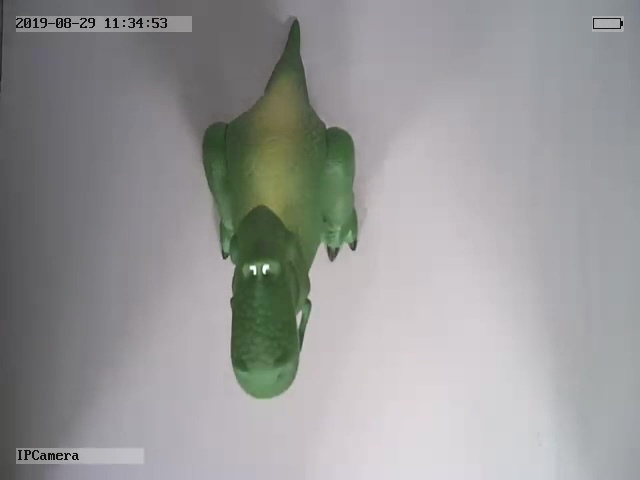rex: (200, 18, 361, 403)
